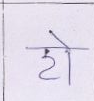o_matra: (60, 32, 77, 86)
